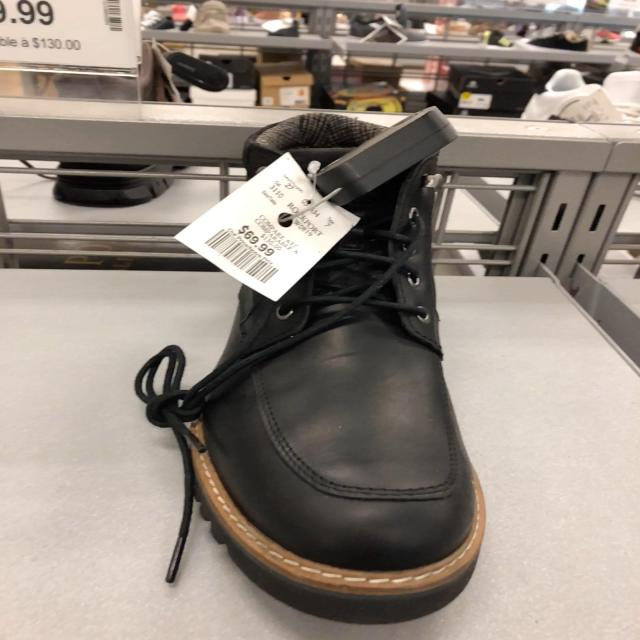shoe: (134, 109, 487, 628)
